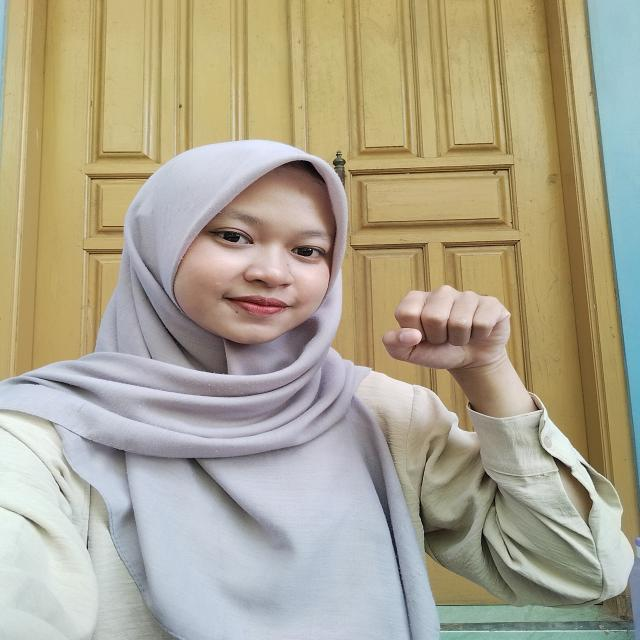baik: (360, 260, 520, 395)
